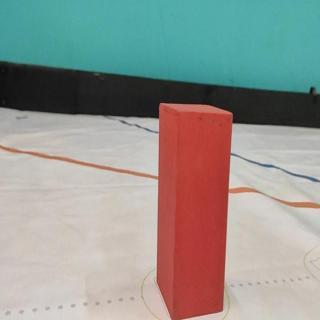redbox: (159, 105, 226, 313)
